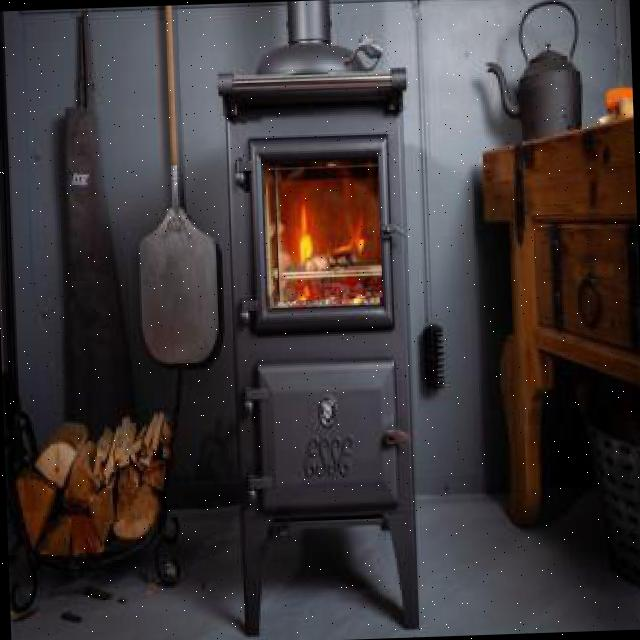fire: (274, 156, 382, 300)
